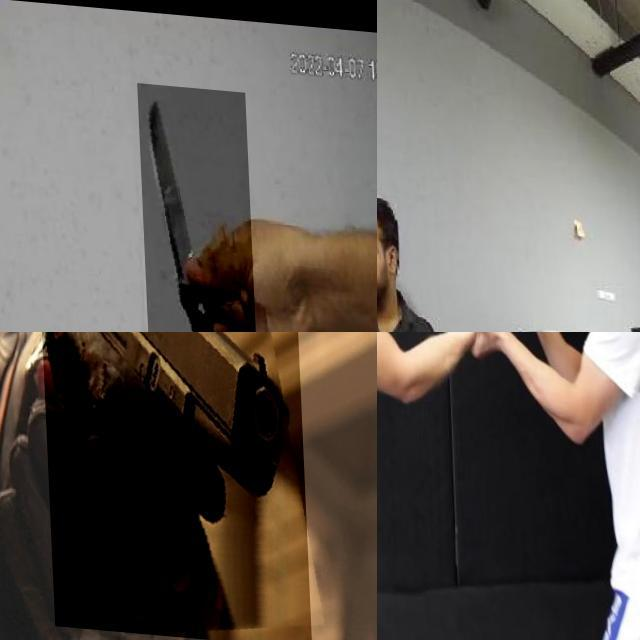-: (137, 76, 259, 332), (457, 332, 559, 375)
gun-knife-thesis - v11 Yolov5 augmented: (35, 332, 307, 639)
